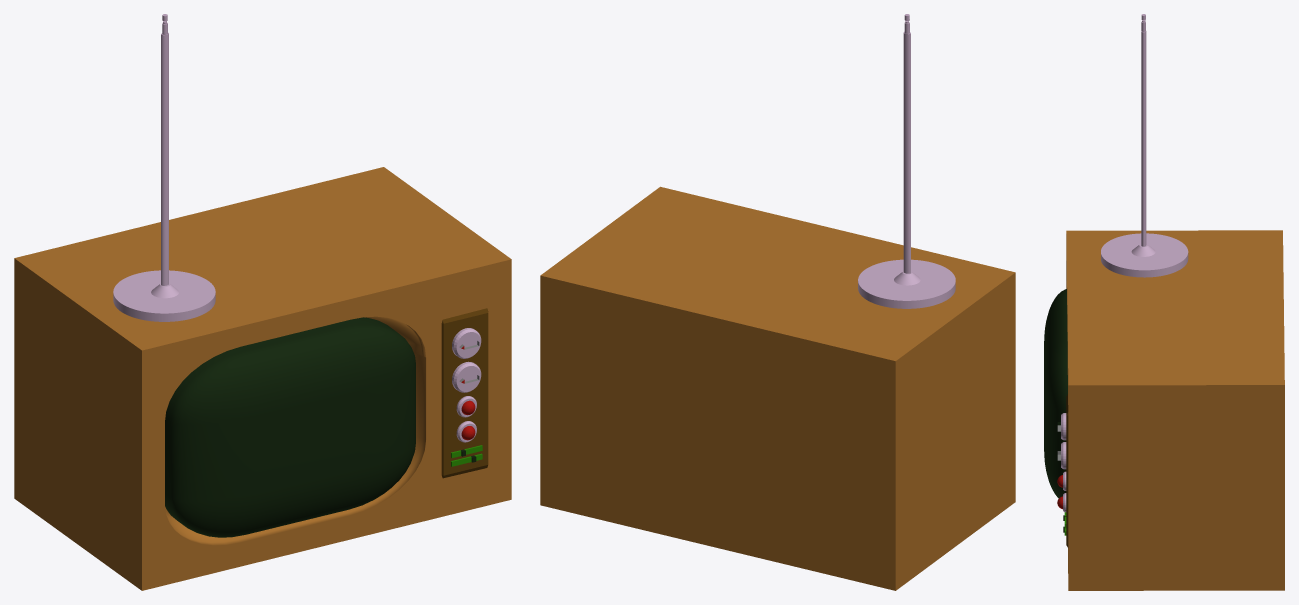
3 renders of one model, left to right at view 1: azimuth 30°, elevation 25°; view 2: azimuth 150°, elevation 25°; view 3: azimuth 270°, elevation 25°, orthographic. The views are drawn at different scales.
Visible parts, largest first — view 1: TVKorpus, TVBildschirm, SchalterFläche, AntenneBoden, Antenne3, Schalter1, Schalter2; view 2: TVKorpus, AntenneBoden, Antenne3; view 3: TVKorpus, TVBildschirm, AntenneBoden, Antenne3, SchalterFläche.
Boxes of the visible parts, box(x1,y1,x2,y2) form: TVKorpus: box(14, 167, 511, 590); TVBildschirm: box(165, 317, 415, 537); SchalterFläche: box(441, 308, 488, 478); AntenneBoden: box(113, 270, 215, 321); Antenne3: box(161, 32, 168, 285); Schalter1: box(452, 328, 481, 358); Schalter2: box(452, 361, 481, 392); TVKorpus: box(540, 186, 1015, 590); AntenneBoden: box(858, 259, 955, 308); Antenne3: box(903, 31, 910, 273); TVKorpus: box(1066, 230, 1284, 590); TVBildschirm: box(1044, 289, 1067, 498); AntenneBoden: box(1101, 233, 1188, 277); Antenne3: box(1141, 31, 1146, 246); SchalterFläche: box(1066, 394, 1068, 547).
Size of the model in its own units: 9.34 by 12.62 by 6.12.
